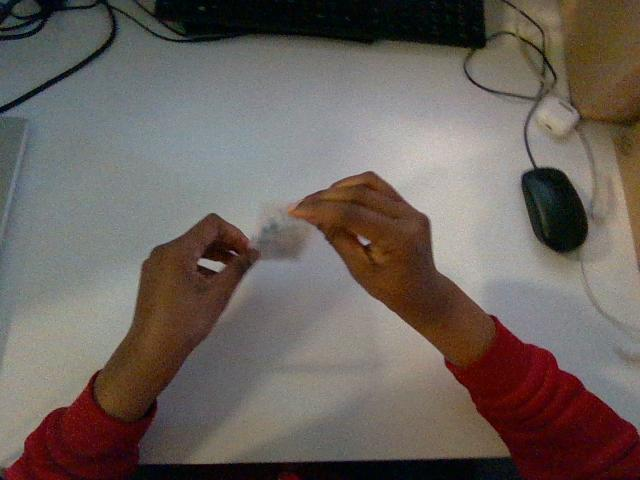gauze: (252, 202, 312, 260)
